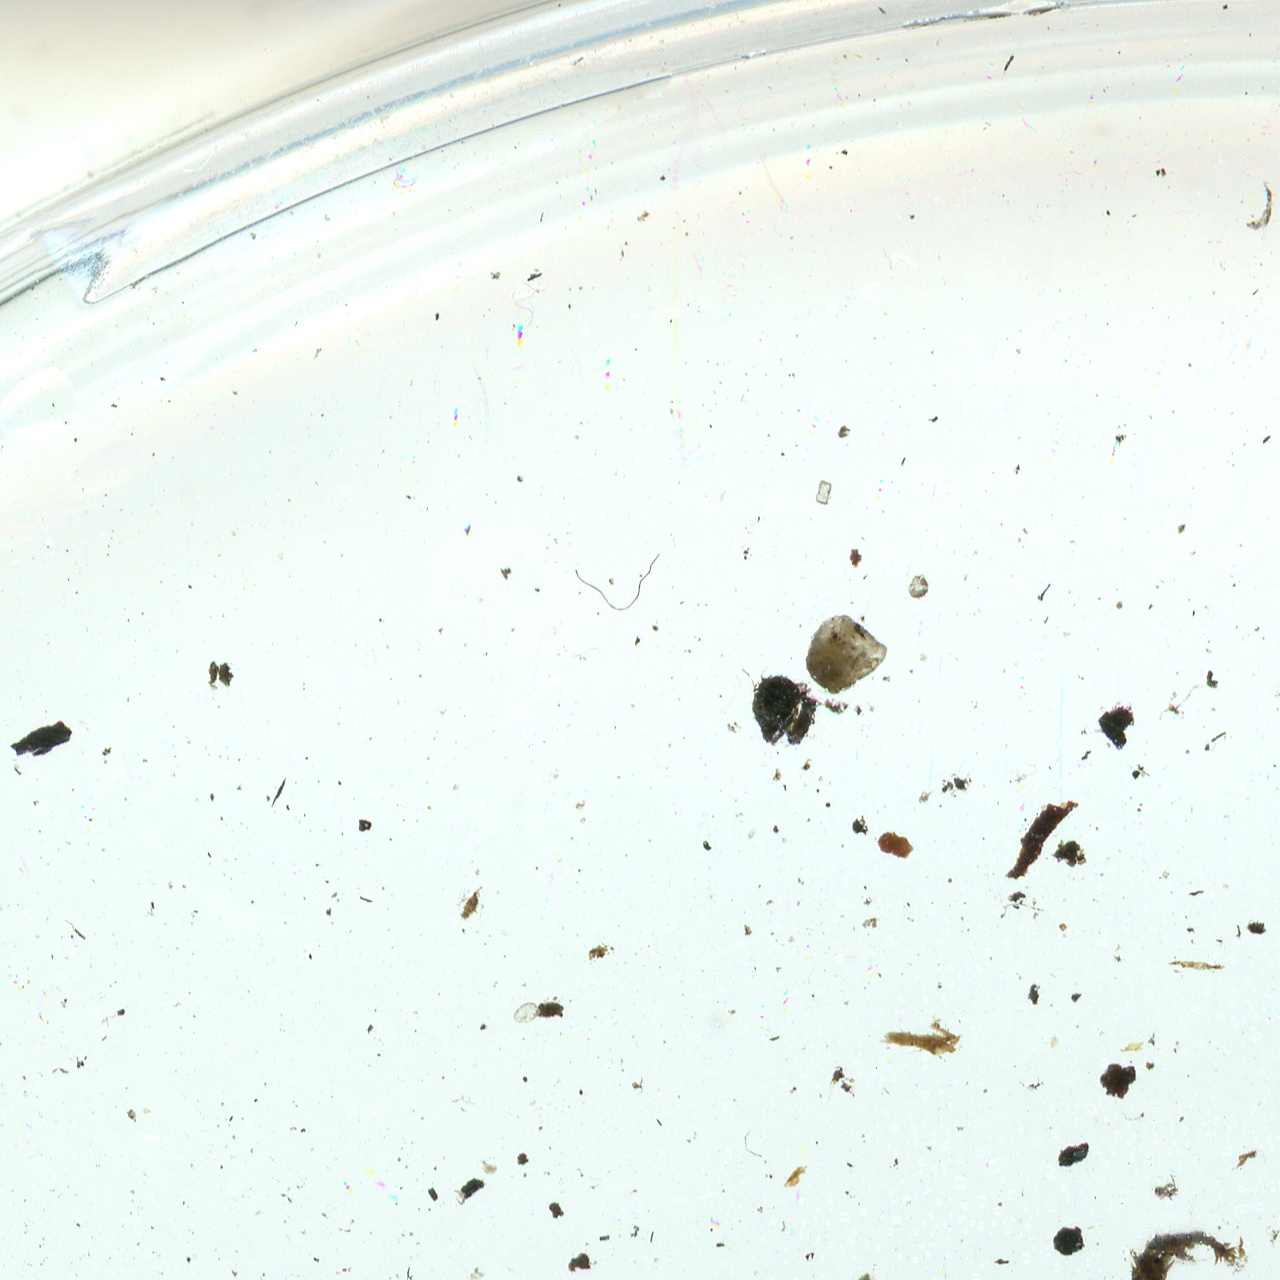arthropod: (1244, 179, 1274, 232)
